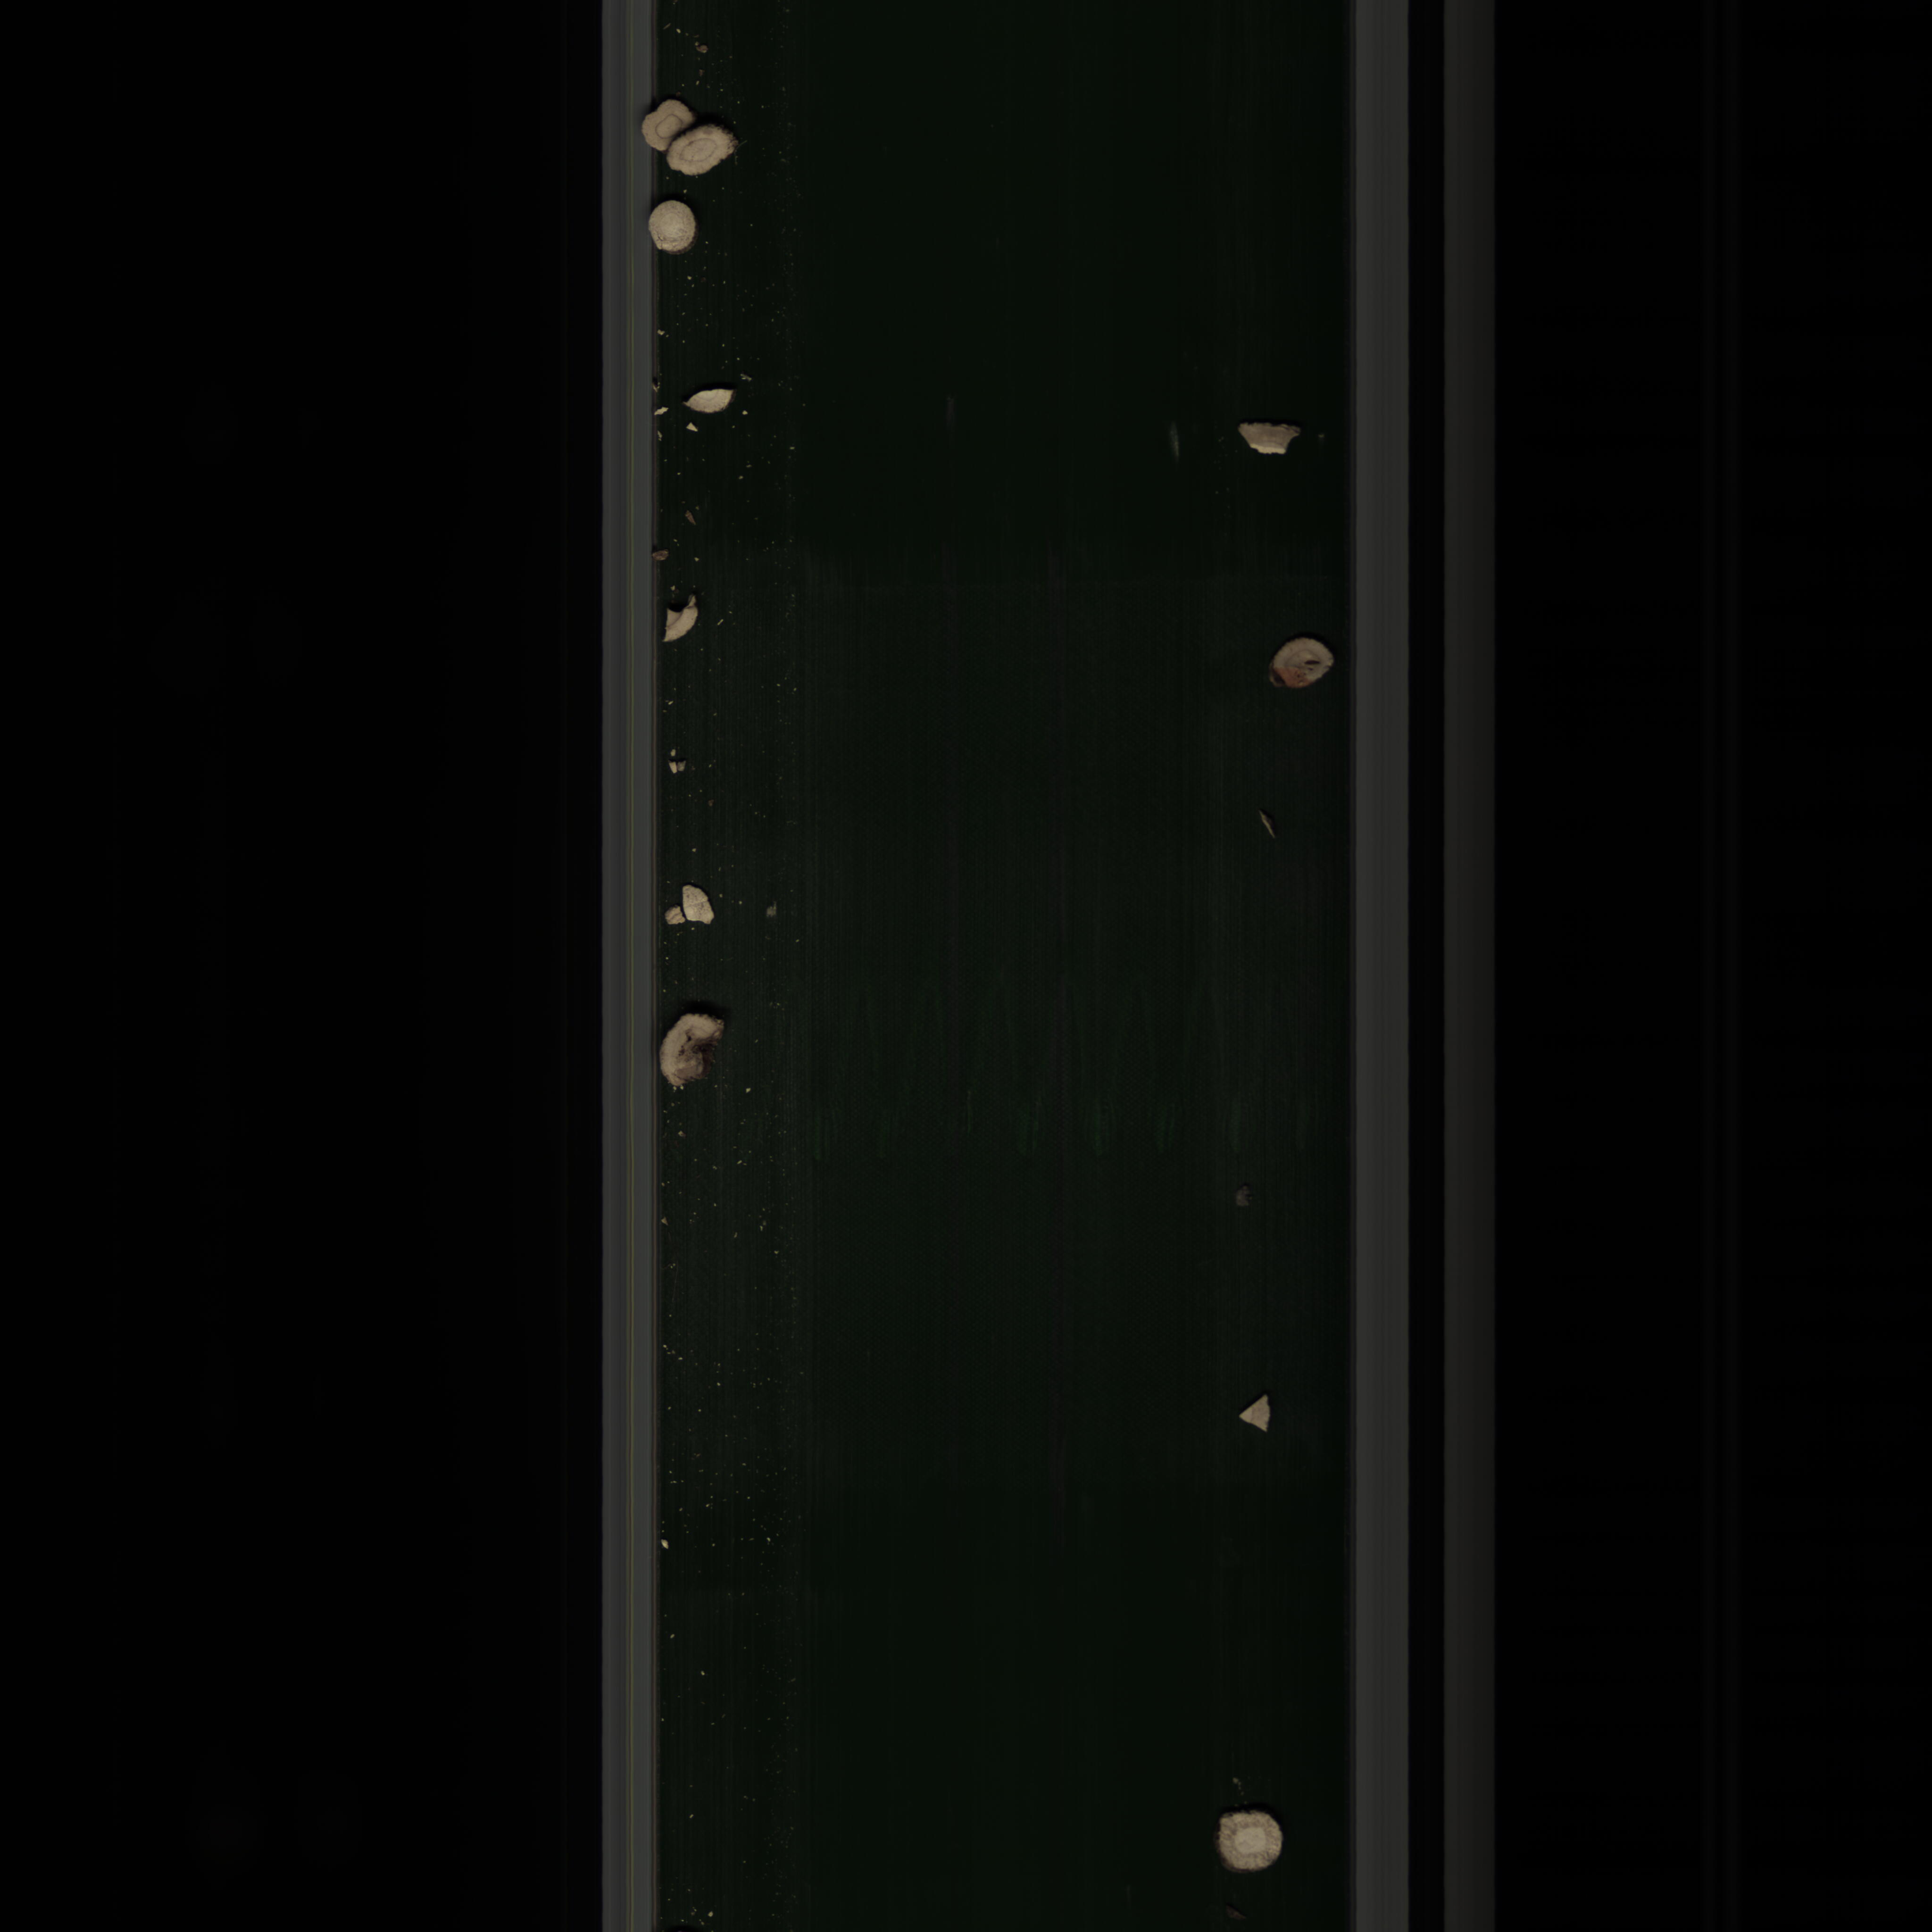debris: (1203, 423, 1306, 462), (653, 876, 722, 932), (653, 594, 711, 648), (678, 382, 738, 418)
hole: (1269, 633, 1341, 697)
moldy: (656, 1001, 734, 1097)
